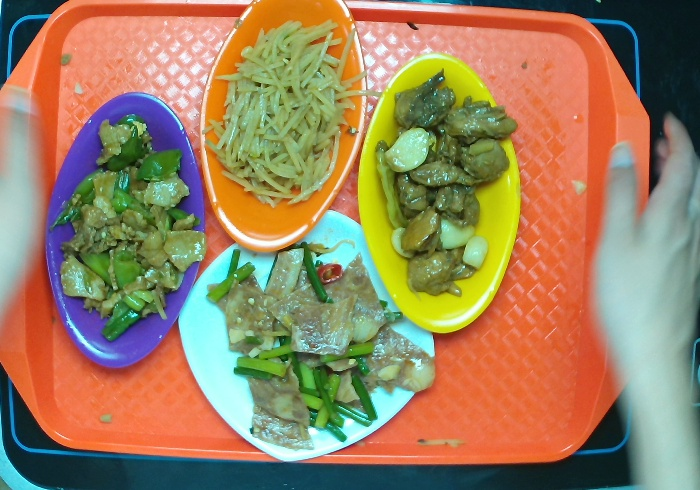RJxy-Fen_Hong_Tuo_Yuan: (37, 87, 208, 376)
RJxy-Huang_Se_Tuo_Yuan: (353, 47, 528, 341)
RJxy-Ju_Huang_Tuo_Yuan: (194, 1, 369, 255)
RJxy-Si_Fang_Die: (172, 205, 442, 465)
